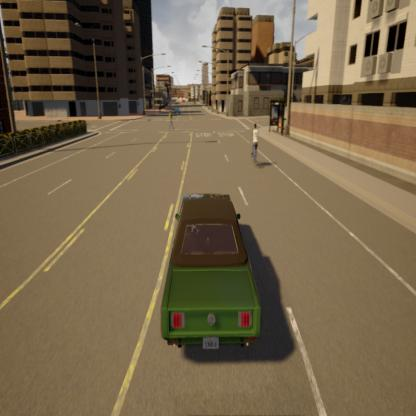Cars: (160, 184, 263, 356), (248, 121, 260, 166), (174, 105, 180, 115)
Pedestrian: (167, 106, 176, 133)
